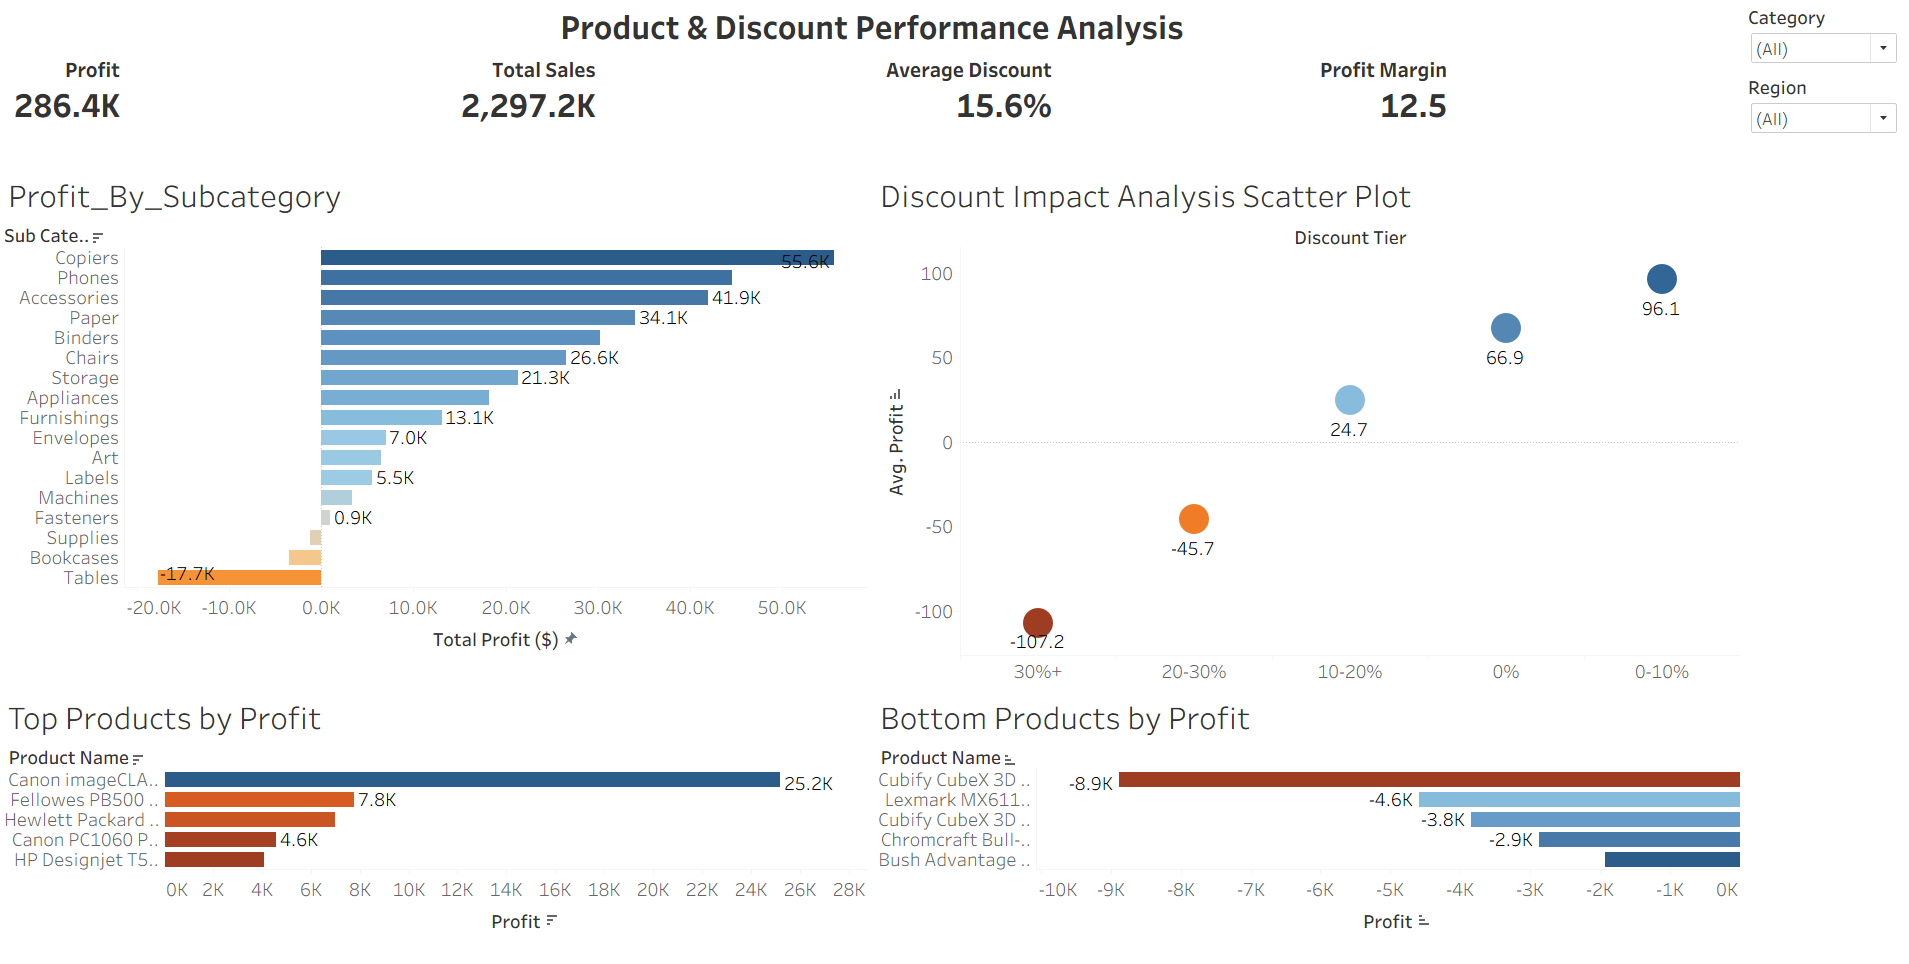

The dashboard page shown, as its layout file describes it:
{"tool":"tableau","page":{"name":"Product & Discount Analysis","canvas":[1000,1000],"units":"permille","ordinal":4},"visuals":[{"type":"title","box":[4.2,8.2,908.3,53.3]},{"type":"filter","title":"Profit_By_Subcategory","param":"[federated.1k9e1lu12u8j3r19thx170q1152m].[none:category:nk]","box":[912.5,8.2,83.3,71.8]},{"type":"worksheet","title":"Product Profit","mark":"Automatic","box":[4.2,61.5,227.1,116.9]},{"type":"worksheet","title":"Product Sales","mark":"Automatic","box":[231.2,61.5,227.1,116.9]},{"type":"worksheet","title":"Average Discount","mark":"Automatic","box":[458.3,61.5,227.1,116.9]},{"type":"worksheet","title":"Profit Margin","mark":"Automatic","box":[685.4,61.5,227.1,116.9]},{"type":"filter","title":"Profit_By_Subcategory","param":"[federated.1k9e1lu12u8j3r19thx170q1152m].[none:region:nk]","box":[912.5,80,83.3,71.8]},{"type":"worksheet","title":"Profit_By_Subcategory","mark":"Bar","rows":["sub_category"],"cols":["profit"],"box":[4.2,178.5,454.2,535.4]},{"type":"worksheet","title":"Discount Impact Analysis Scatter Plot","mark":"Circle","rows":["profit"],"cols":["Calculation_1090434066873233408"],"box":[458.3,178.5,454.2,535.4]},{"type":"worksheet","title":"Top Products by Profit","mark":"Automatic","rows":["product_name"],"cols":["profit"],"box":[4.2,713.9,454.2,277.9]},{"type":"worksheet","title":"Bottom Products by Profit ","mark":"Automatic","rows":["product_name"],"cols":["profit"],"box":[458.3,713.9,454.2,277.9]}]}

Visuals, with their boxes on the dashboard's canvas, which has no fixed pixel size, in thousandths of its width and height (x1, y1, x2, y2). These are canvas units, not pixel positions in the 1909x964 screenshot, which may show the page scaled, cropped or inside an application window:
title: 4,8,912,62
"Profit_By_Subcategory" filter: 912,8,996,80
"Product Profit" worksheet: 4,62,231,178
"Product Sales" worksheet: 231,62,458,178
"Average Discount" worksheet: 458,62,685,178
"Profit Margin" worksheet: 685,62,912,178
"Profit_By_Subcategory" filter: 912,80,996,152
"Profit_By_Subcategory" worksheet (Bar marks): 4,178,458,714
"Discount Impact Analysis Scatter Plot" worksheet (Circle marks): 458,178,912,714
"Top Products by Profit" worksheet: 4,714,458,992
"Bottom Products by Profit " worksheet: 458,714,912,992
